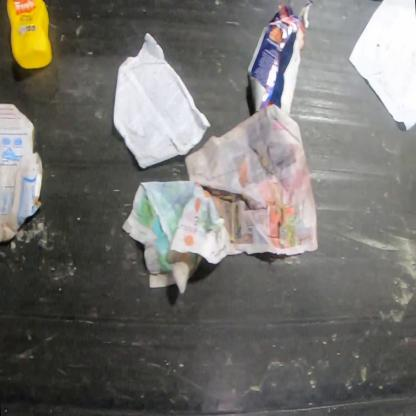cardboard: (0, 103, 43, 243)
rigid_plastic: (8, 0, 53, 70)
